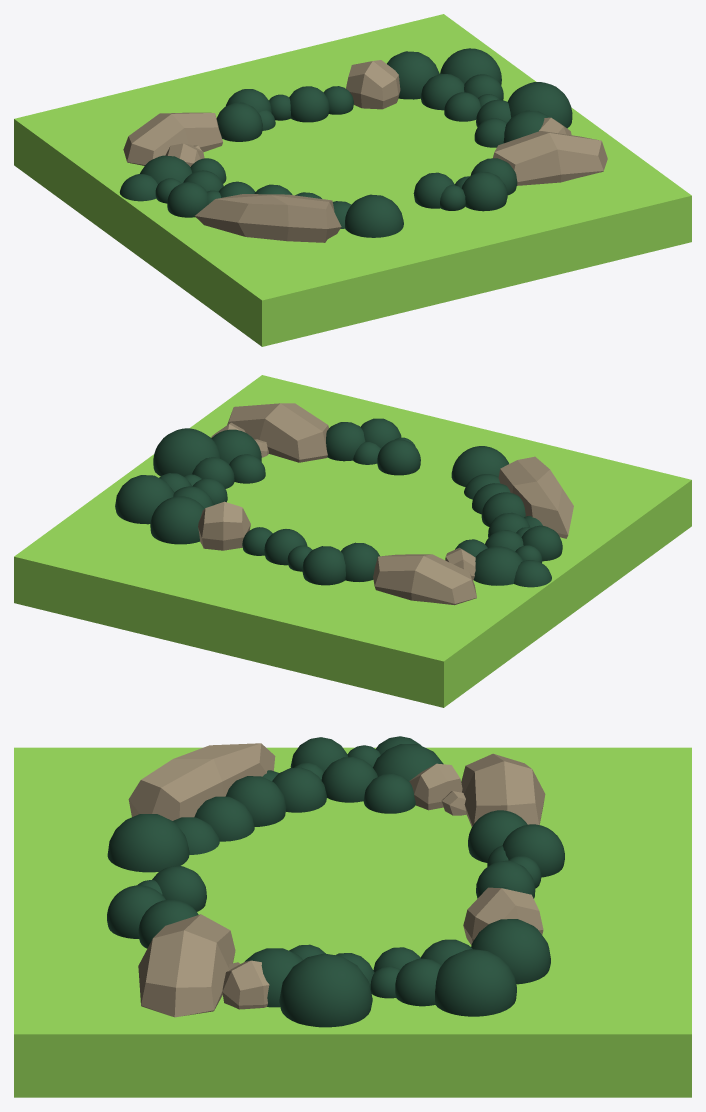
The model's file is mainLevel.glb.
3 renders of one model, top to bottom at view 1: azimuth 30°, elevation 25°; view 2: azimuth 150°, elevation 25°; view 3: azimuth 270°, elevation 25°, orthographic. The views are drawn at different scales.
Visible parts, largest first — view 1: Cube, Cube.008, Cube.002, Cube.005, Cube.001, Sphere.029, Sphere.035, Sphere.016, Sphere.004, Sphere.019, Sphere.037, Sphere.009 (+16 smaller); view 2: Cube, Cube.005, Cube.002, Cube.008, Sphere.035, Sphere.016, Cube.001, Sphere.037, Sphere.028, Sphere.029, Sphere.006, Sphere.022 (+16 smaller); view 3: Cube, Cube.002, Cube.008, Sphere.035, Sphere.037, Cube.005, Sphere.029, Sphere.016, Cube.001, Sphere.006, Sphere.023, Sphere.019 (+18 smaller).
Boxes of the visible parts, <box> form: Cube: <box>14,14,691,346</box>; Cube.008: <box>195,194,341,242</box>; Cube.002: <box>493,131,607,185</box>; Cube.005: <box>123,112,222,165</box>; Cube.001: <box>346,60,400,109</box>; Sphere.029: <box>345,194,403,237</box>; Sphere.035: <box>507,82,572,128</box>; Sphere.016: <box>387,51,439,99</box>; Sphere.004: <box>216,102,262,141</box>; Sphere.019: <box>461,172,507,211</box>; Sphere.037: <box>440,48,501,85</box>; Sphere.009: <box>289,86,329,122</box>; Cube: <box>14,375,691,707</box>; Cube.005: <box>373,554,476,605</box>; Cube.002: <box>227,403,328,462</box>; Cube.008: <box>498,456,573,538</box>; Sphere.035: <box>153,428,219,476</box>; Sphere.016: <box>150,496,204,544</box>; Cube.001: <box>198,501,250,550</box>; Sphere.037: <box>115,475,174,524</box>; Sphere.028: <box>473,546,523,585</box>; Sphere.029: <box>451,446,508,486</box>; Sphere.006: <box>302,546,345,585</box>; Sphere.022: <box>377,439,420,475</box>; Cube: <box>14,747,691,1097</box>; Cube.002: <box>138,914,235,1017</box>; Cube.008: <box>128,743,275,820</box>; Sphere.035: <box>279,953,372,1027</box>; Sphere.037: <box>435,949,516,1016</box>; Cube.005: <box>461,753,545,826</box>; Sphere.029: <box>107,814,189,872</box>; Sphere.016: <box>471,919,550,984</box>; Cube.001: <box>463,887,543,945</box>; Sphere.006: <box>502,824,564,877</box>; Sphere.023: <box>225,776,286,826</box>; Sphere.019: <box>107,885,165,938</box>.
Bounding box in the file's own units: 19.36 × 3.65 × 19.36.
